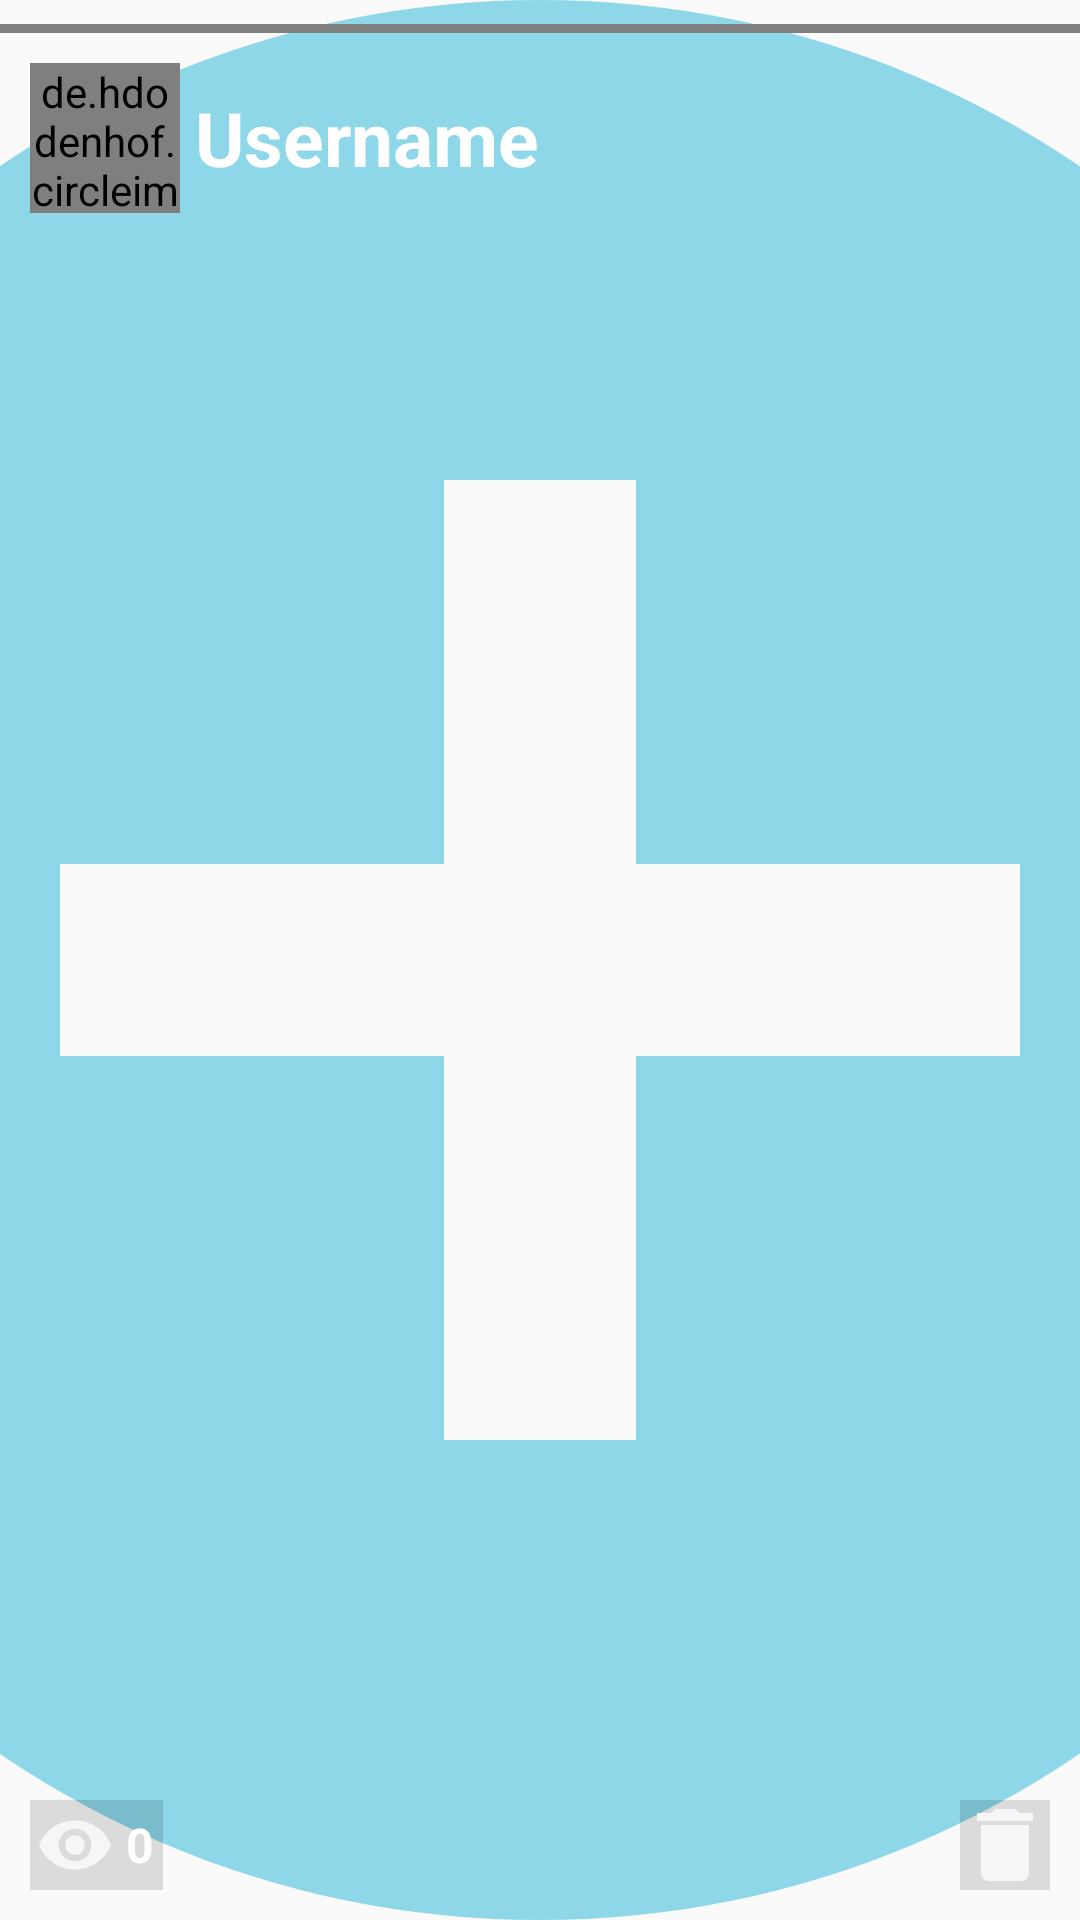

Icon bounding boxes for this 1080w x 1920h phone screenshot, format (x1, y1, x2, y2):
delete: (960, 1800, 1050, 1890)
story view: (40, 1821, 110, 1869)
